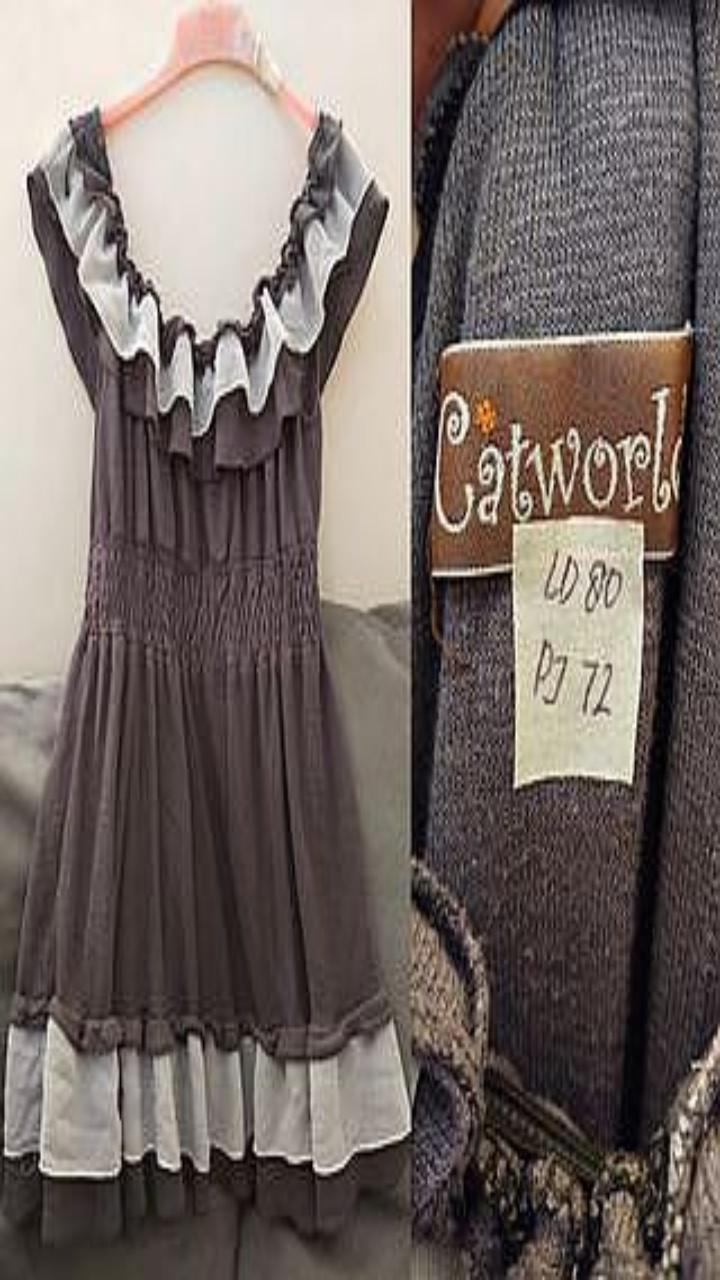Dresses: (3, 110, 409, 1239)
